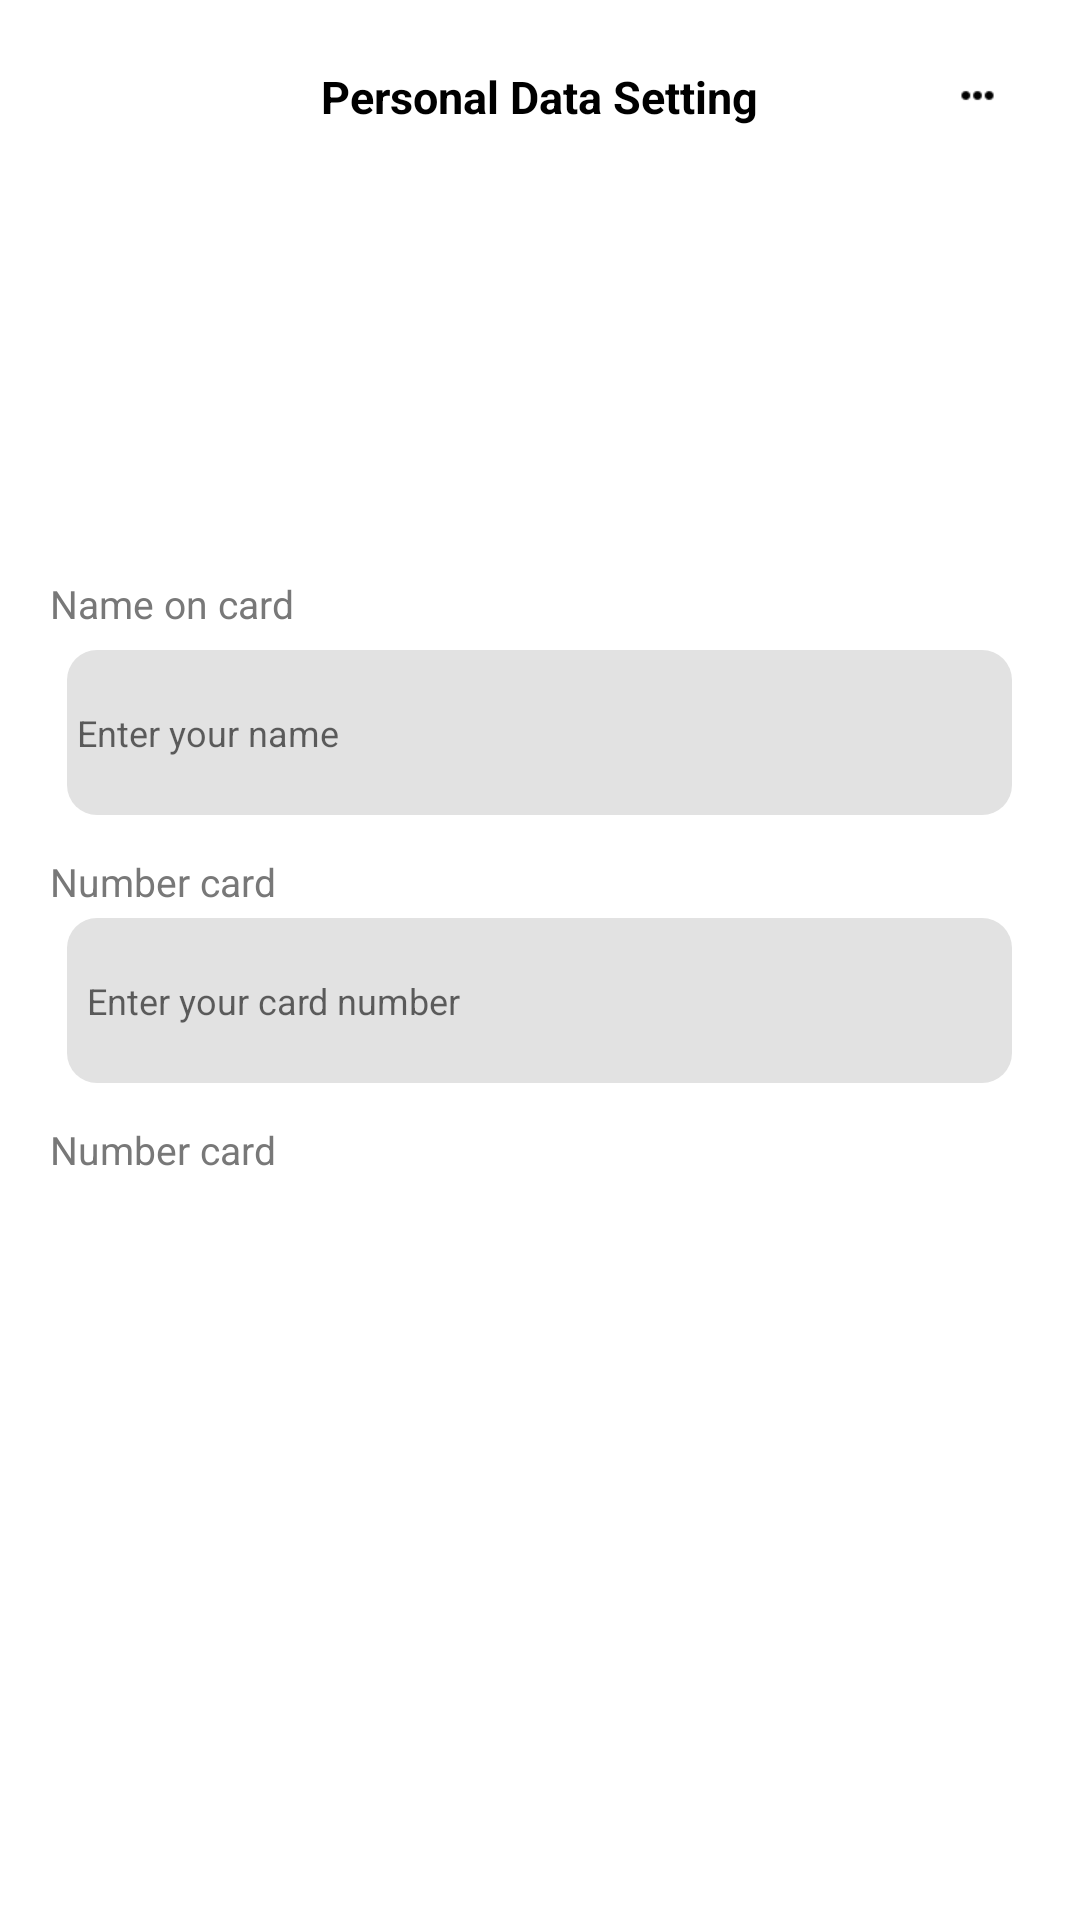

Screen size 1080px×1920px. Icon name, then its box in pixels as box=[x1, y1, x2, y2]:
more: box=[961, 91, 994, 100]
